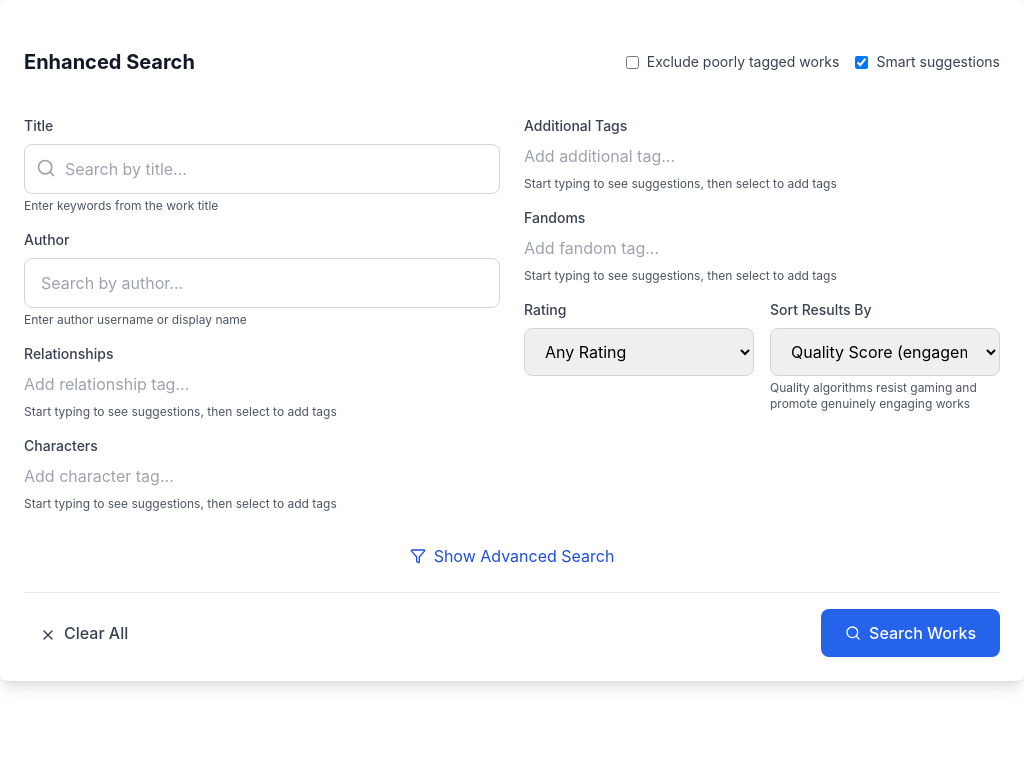
SearchForm - Accessibility-First Implementation › Error Handling › displays validation errors with proper ARIA attributes
// Try to submit without any search criteria
Click the button "Search Works" at (911, 633), box [821, 609, 1000, 657]
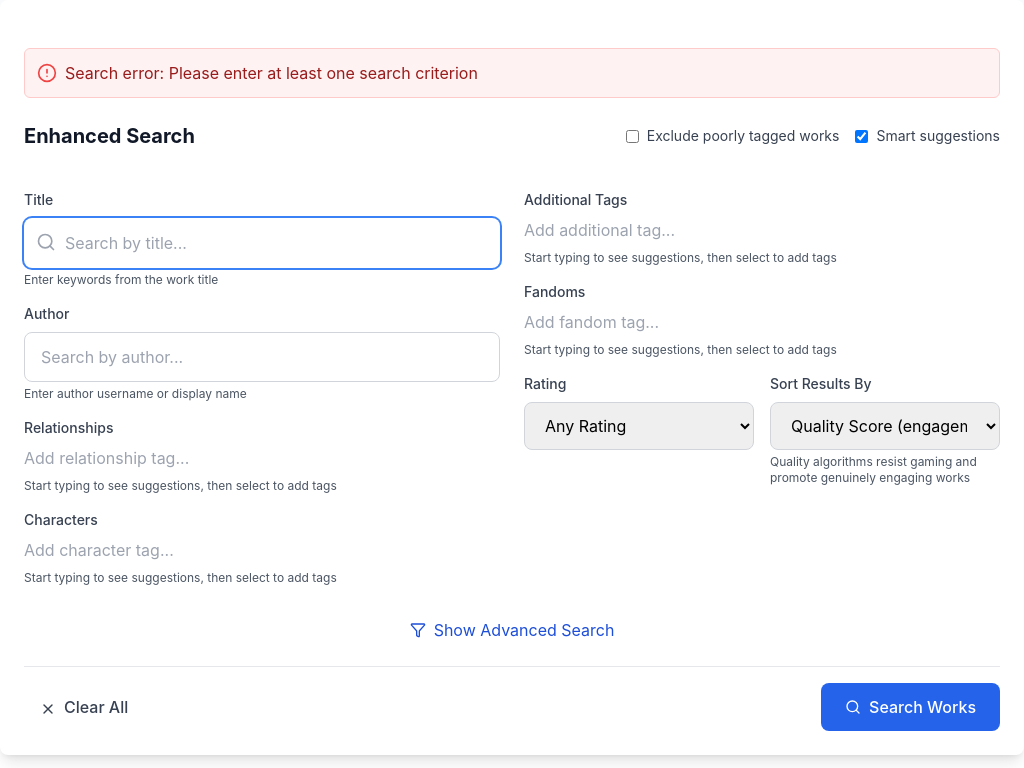
expect the message "Search error: Please enter at least one search criterion" is shown: met, box [24, 48, 1000, 98]
expect the message shows "Please enter at least one search criterion": met, box [169, 63, 478, 83]
